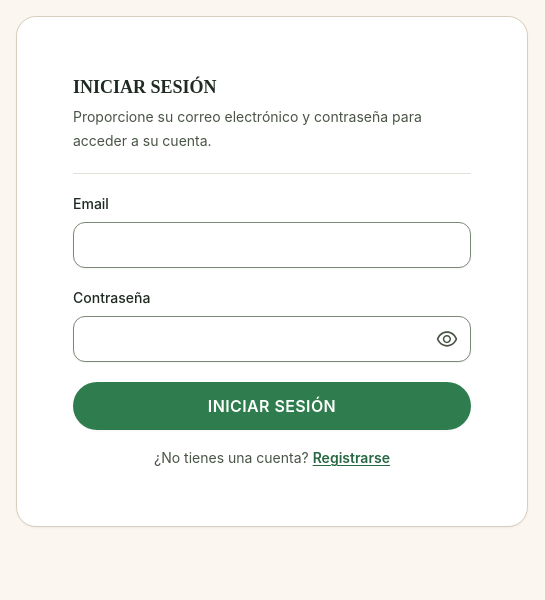
Test: Login › clears the previous error when trying again
Type "ana@example.com" into the field labelled "Email" at [272, 245], box [73, 222, 471, 268]
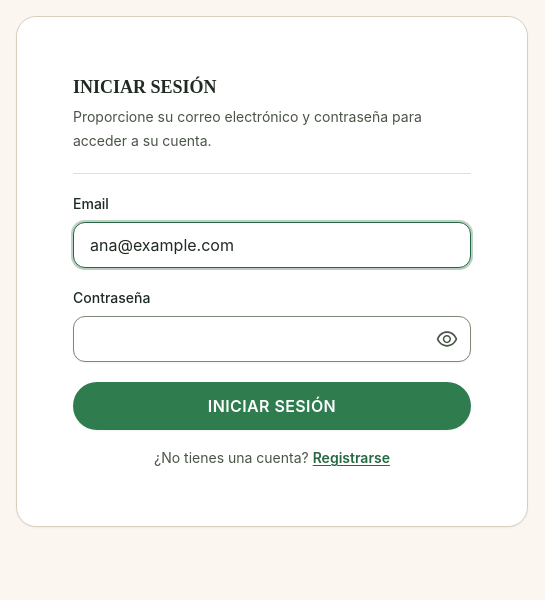
Type "nope" into the password field labelled "Contraseña" at [272, 339], box [73, 316, 471, 362]
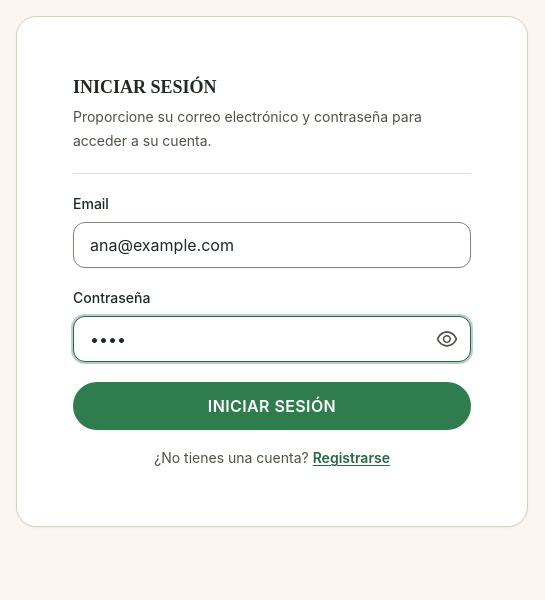
Click the button "Iniciar Sesión" at [272, 406], box [73, 382, 471, 430]
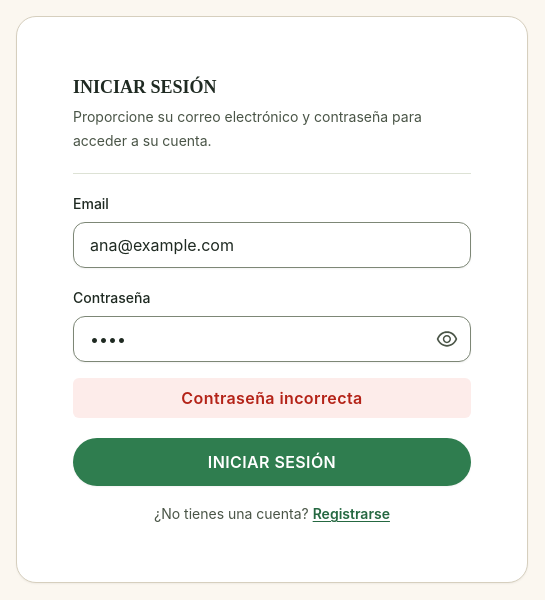
Check: the message "Contraseña incorrecta" is shown, box [73, 378, 471, 418]
Click the button "Iniciar Sesión" at [272, 462], box [73, 438, 471, 486]
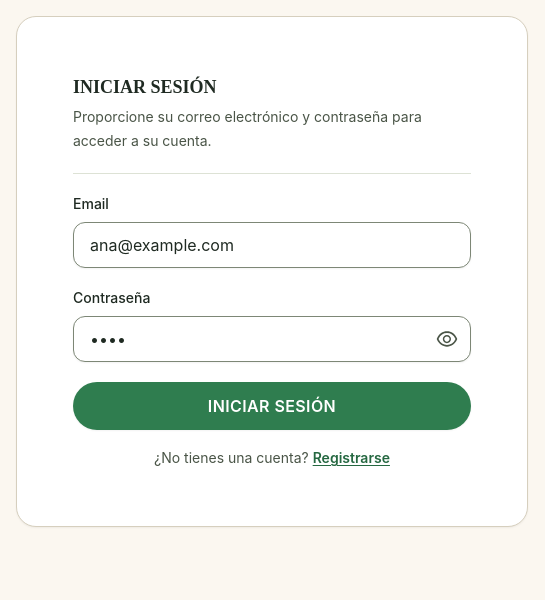
Check: the message "Contraseña incorrecta" is gone
